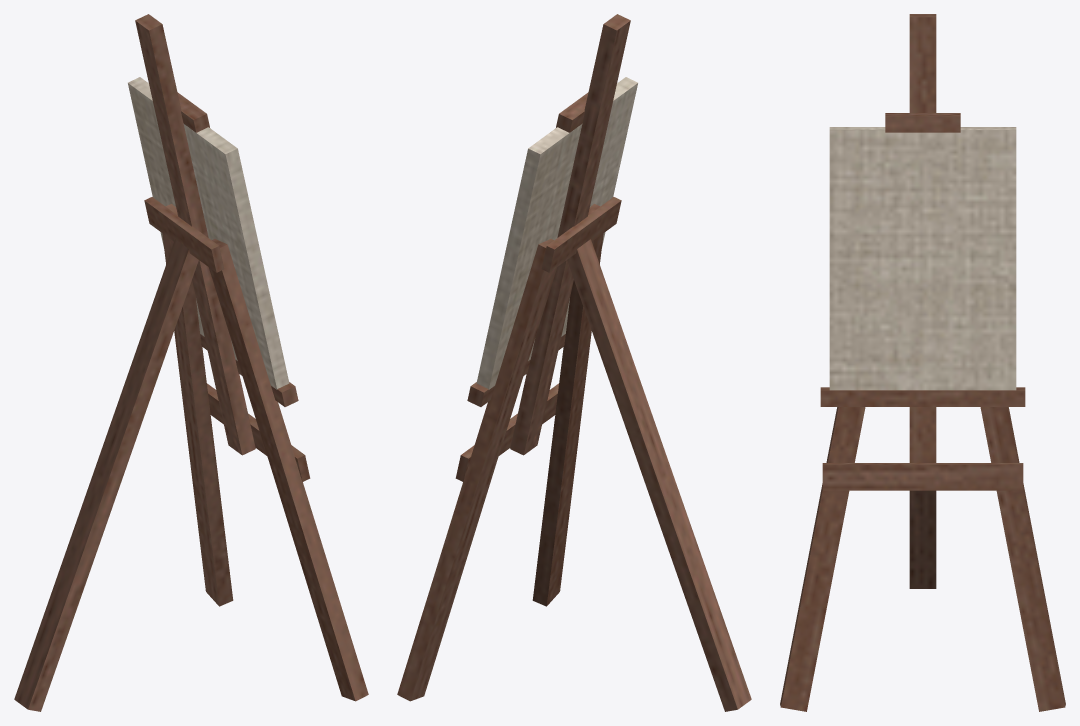
File: Canvas.fbx
3 views of the same model, side by side, from view 1: azimuth 30°, elevation 25°; view 2: azimuth 150°, elevation 25°; view 3: azimuth 270°, elevation 25° (orthographic). The views are drawn at different scales.
Parts seen in each view (by area): view 1: Cube.033; view 2: Cube.033; view 3: Cube.033.
Boxes of the visible parts, x1,y1,x2,y2 form: Cube.033: (14,14,368,711); Cube.033: (397,14,751,711); Cube.033: (780,14,1065,711).
Bounding box in the file's own units: 193 × 448 × 183.
Materials: 1 (1 with a texture image).
